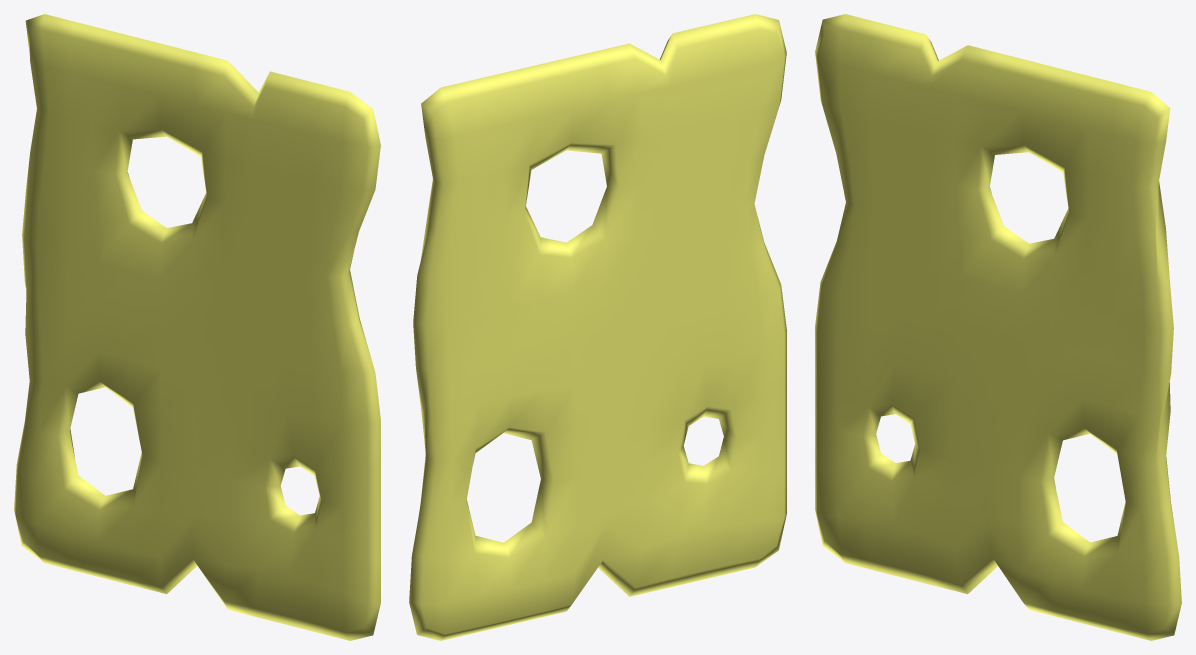
File: Cheese1.fbx
The picture shows the model from 3 angles, left to right: view 1: azimuth 90°, elevation 25°; view 2: azimuth 150°, elevation 25°; view 3: azimuth 270°, elevation 25°; orthographic projection.
Visible parts, largest first — view 1: Cheese; view 2: Cheese; view 3: Cheese.
Boxes of the visible parts, x1=… form: Cheese: x1=14, y1=14, x2=380, y2=640; Cheese: x1=409, y1=14, x2=786, y2=640; Cheese: x1=815, y1=14, x2=1181, y2=640.
Size of the model in its own units: 4.67 by 12.31 by 7.45.
